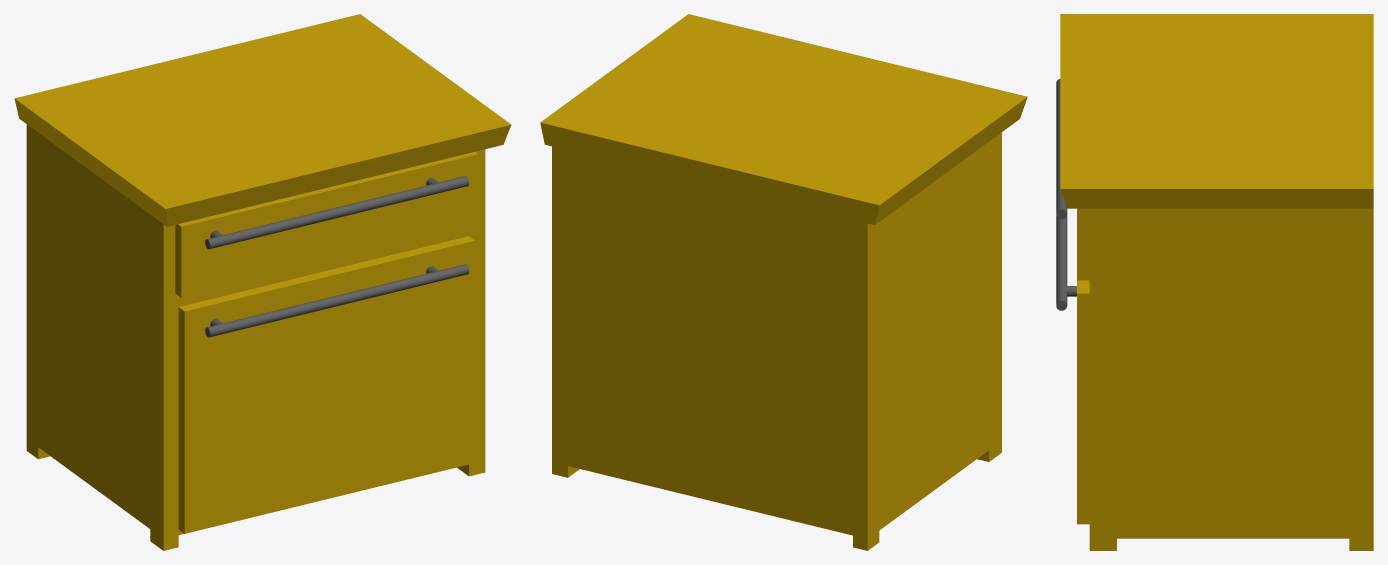
Rendered from Nightstand.fbx.
The picture shows the model from 3 angles, left to right: view 1: azimuth 30°, elevation 25°; view 2: azimuth 150°, elevation 25°; view 3: azimuth 270°, elevation 25°; orthographic projection. The views are drawn at different scales.
Visible parts, largest first — view 1: NighstandBase, Nightstand_BottomDrawer, polySurface10; view 2: NighstandBase; view 3: NighstandBase, Nightstand_BottomDrawer, polySurface10.
Part boxes in pixels (x1,y1,x2,y2): NighstandBase: [14, 14, 511, 550]; Nightstand_BottomDrawer: [178, 236, 474, 533]; polySurface10: [175, 152, 478, 297]; NighstandBase: [540, 14, 1027, 550]; NighstandBase: [1060, 14, 1373, 550]; Nightstand_BottomDrawer: [1056, 215, 1089, 524]; polySurface10: [1056, 79, 1089, 280].
Size of the model in its own units: 75.31 by 73.92 by 57.78.
